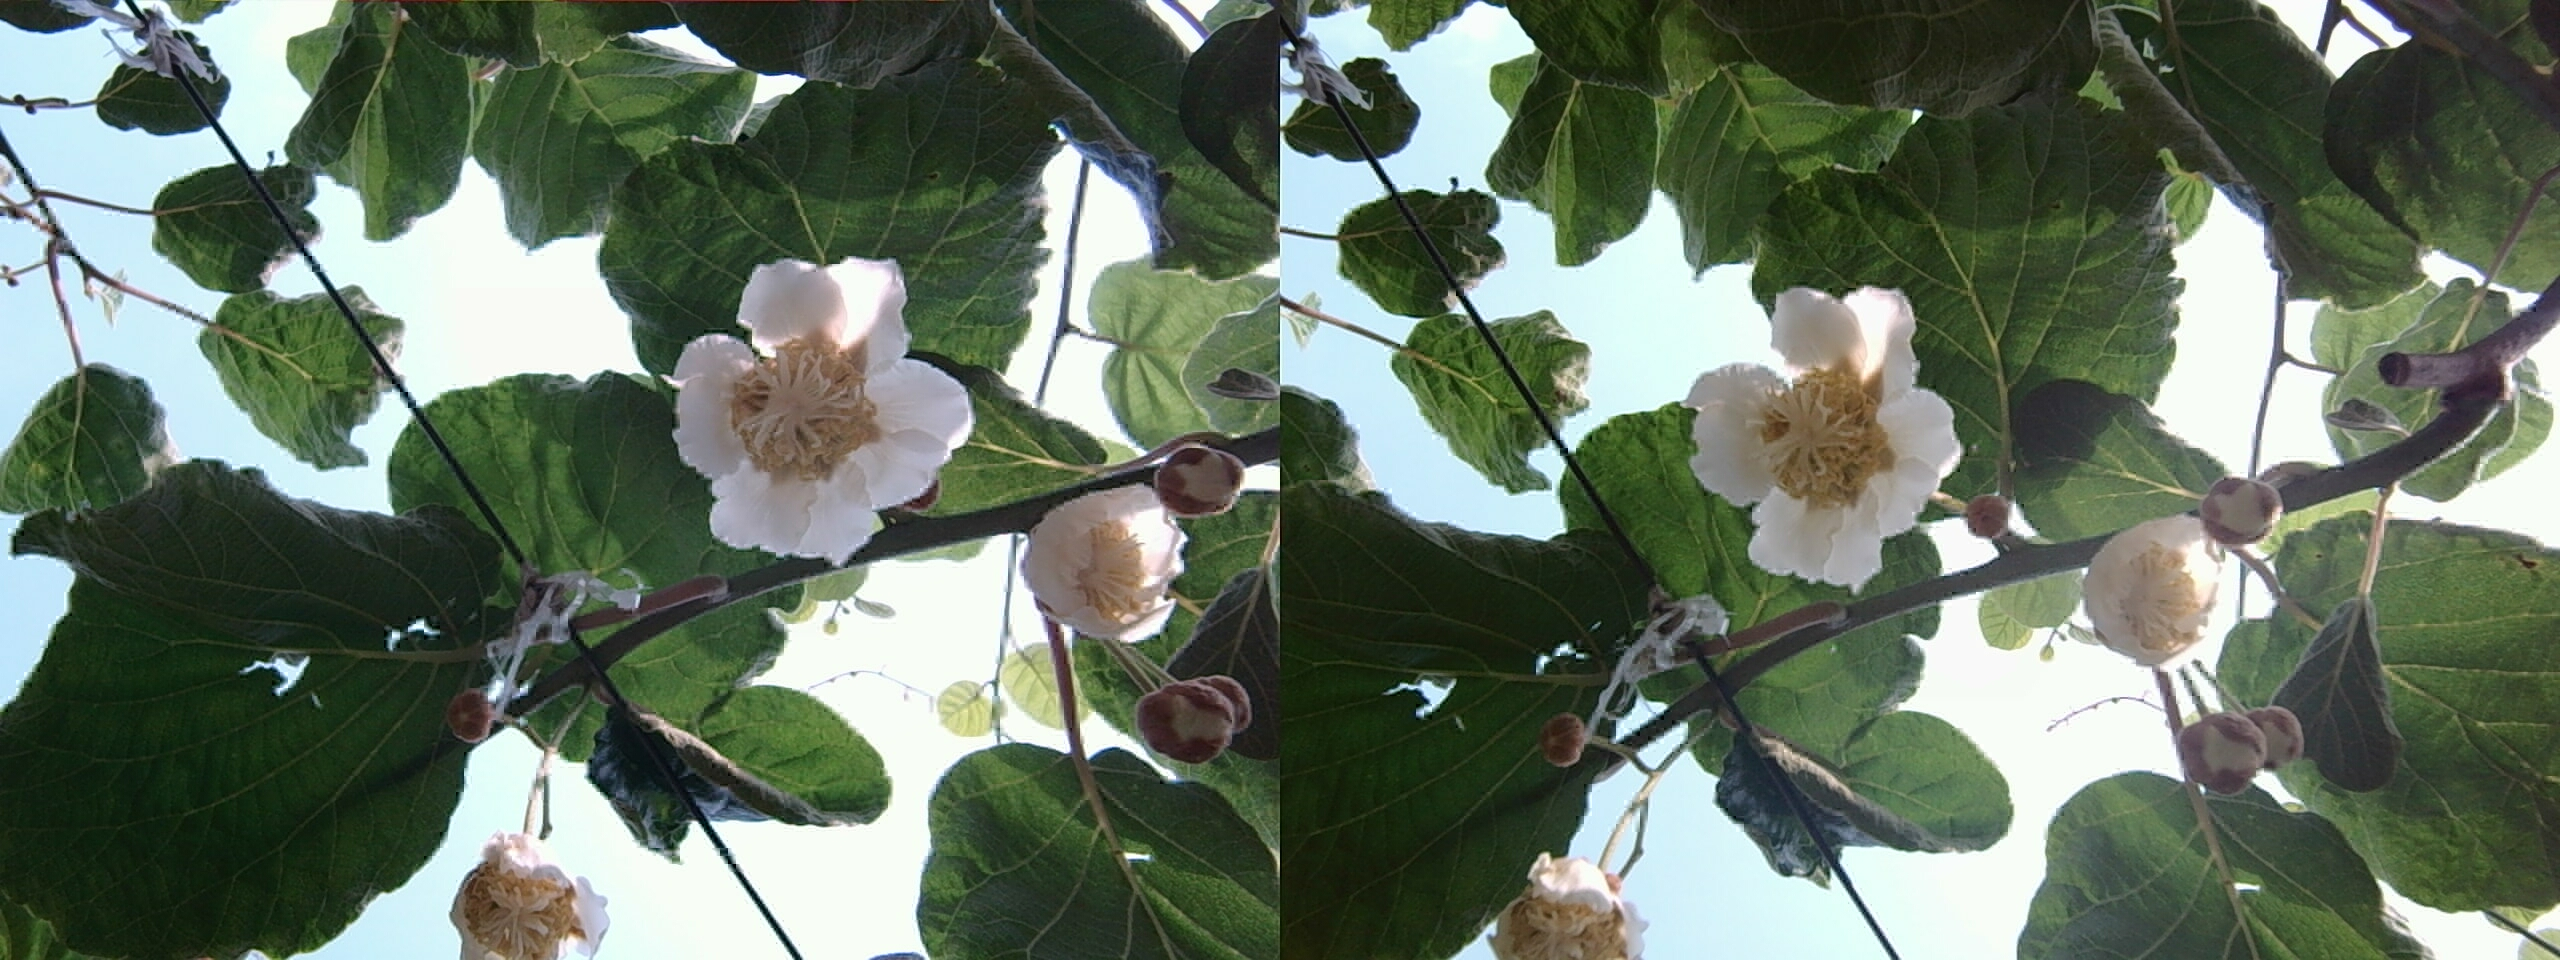flower: (656, 263, 945, 555), (1683, 292, 1953, 580), (1024, 480, 1185, 635), (2080, 514, 2229, 658), (447, 831, 607, 955)
